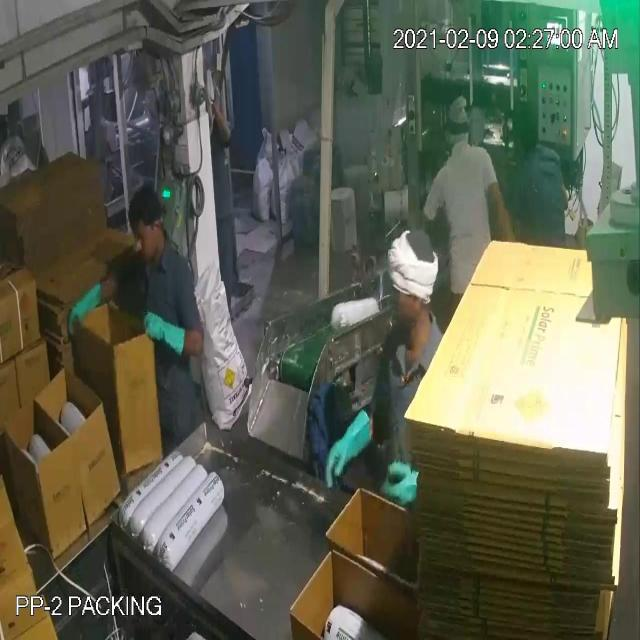gloves: (324, 408, 374, 491), (137, 300, 197, 362), (59, 282, 109, 335), (384, 458, 424, 516)
